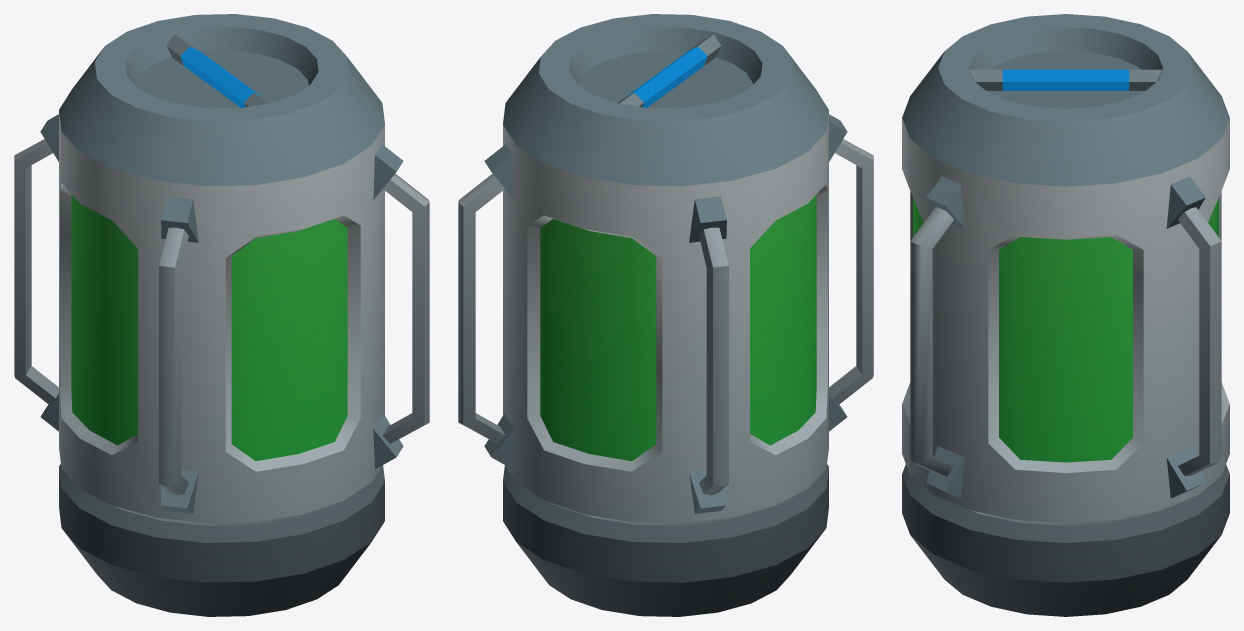
Rendered from Barrel_005.glb.
3 views of the same model, side by side, from view 1: azimuth 30°, elevation 25°; view 2: azimuth 150°, elevation 25°; view 3: azimuth 270°, elevation 25° (orthographic).
Parts seen in each view (by area): view 1: Barrel_005; view 2: Barrel_005; view 3: Barrel_005.
Boxes of the visible parts, <box> form: Barrel_005: <box>14,14,429,616</box>; Barrel_005: <box>458,14,873,616</box>; Barrel_005: <box>902,14,1229,616</box>.
Bounding box in the file's own units: 0.6 × 1 × 0.6.
2 materials, 2 textured.
